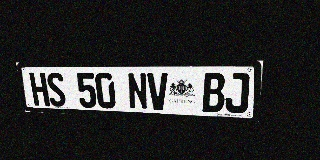0: (95, 72, 116, 109)
5: (76, 72, 98, 108)
B: (202, 73, 225, 113)
H: (29, 72, 50, 106)
J: (225, 73, 250, 113)
N: (127, 73, 148, 110)
S: (46, 72, 67, 107)
V: (147, 73, 169, 111)
